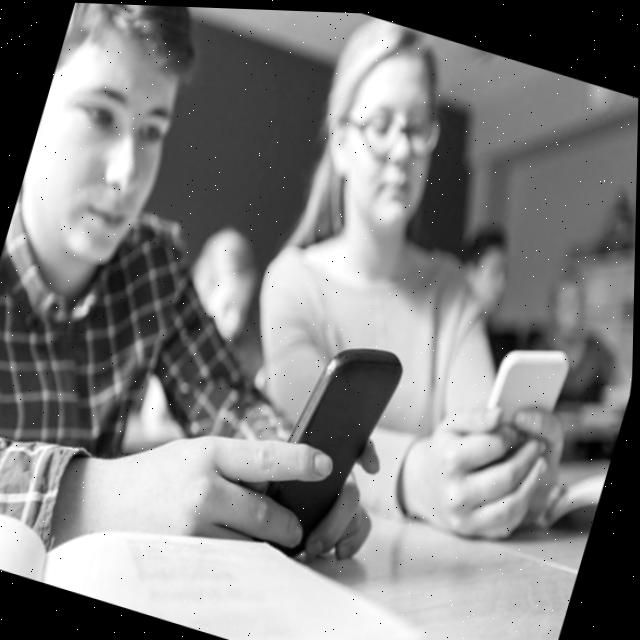phone: (225, 311, 441, 585), (474, 324, 586, 443)
